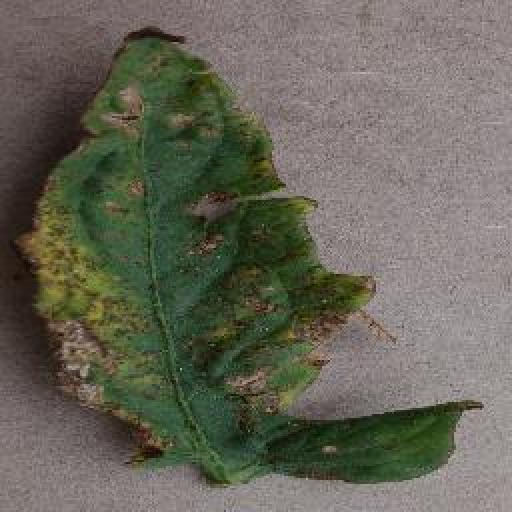Bacterial Spot: (5, 23, 491, 489)
